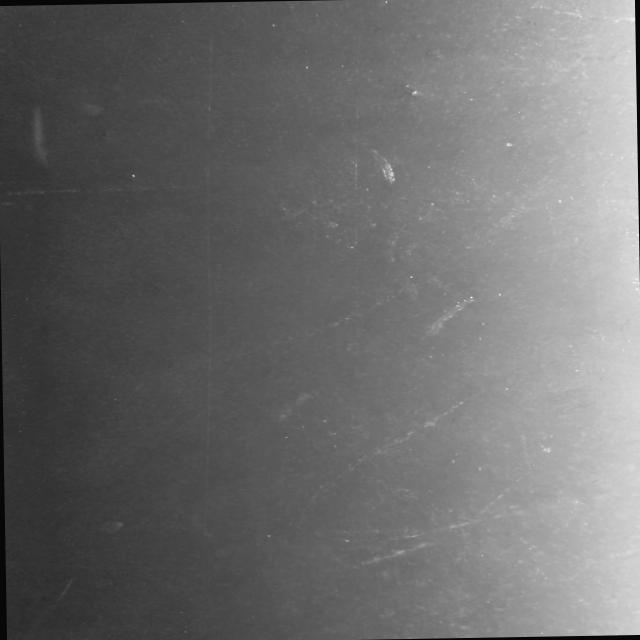beta: (148, 277, 415, 383), (295, 387, 494, 520), (314, 490, 602, 550), (469, 426, 530, 520), (4, 548, 195, 574), (11, 575, 76, 640), (0, 182, 210, 200), (113, 2, 152, 86), (522, 0, 633, 25), (356, 540, 436, 566)
